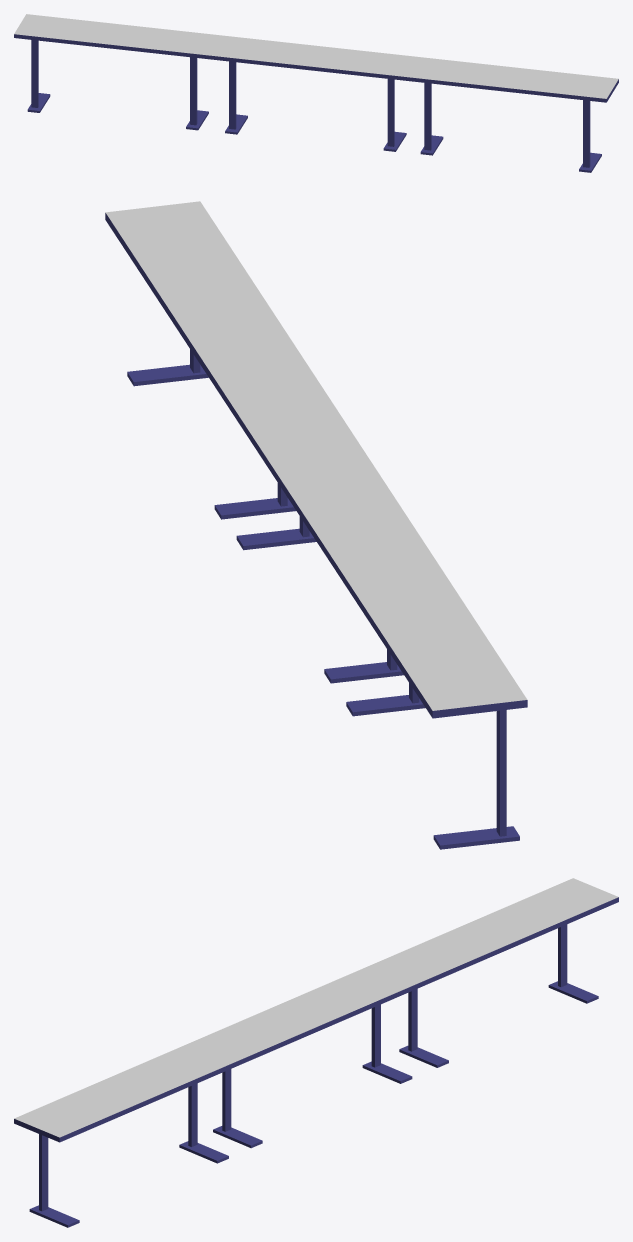
File: A222bancDerriere.fbx
3 views of the same model, one above another, from view 1: azimuth 30°, elevation 25°; view 2: azimuth 150°, elevation 25°; view 3: azimuth 270°, elevation 25° (orthographic). The views are drawn at different scales.
Parts seen in each view (by area): view 1: polySurface8, polySurface10, polySurface12, polySurface16, polySurface14, polySurface18, polySurface20; view 2: polySurface8, polySurface10, polySurface9, polySurface19, polySurface17, polySurface13, polySurface15, polySurface11; view 3: polySurface8, polySurface18, polySurface20, polySurface10, polySurface12, polySurface14, polySurface16, polySurface11, polySurface13, polySurface15, polySurface19, polySurface9 (+1 smaller).
Boxes of the visible parts, x1,y1,x2,y2 form: polySurface8: (14, 14, 618, 102); polySurface10: (31, 40, 38, 107); polySurface12: (190, 57, 197, 125); polySurface16: (229, 61, 236, 129); polySurface14: (387, 79, 394, 146); polySurface18: (583, 100, 590, 167); polySurface20: (424, 83, 431, 150); polySurface8: (105, 201, 527, 718); polySurface10: (496, 710, 506, 836); polySurface9: (433, 826, 519, 849); polySurface19: (214, 498, 295, 519); polySurface17: (127, 364, 208, 386); polySurface13: (236, 528, 316, 550); polySurface15: (324, 662, 403, 683); polySurface11: (346, 695, 425, 716); polySurface8: (14, 878, 618, 1142); polySurface18: (39, 1134, 48, 1211); polySurface20: (188, 1083, 197, 1146); polySurface10: (558, 924, 567, 987); polySurface12: (408, 989, 417, 1051); polySurface14: (222, 1069, 231, 1131); polySurface16: (371, 1004, 380, 1067); polySurface11: (399, 1045, 448, 1067); polySurface13: (213, 1126, 262, 1148); polySurface15: (362, 1061, 412, 1083); polySurface19: (179, 1141, 228, 1163); polySurface9: (548, 981, 598, 1003).
Bounding box in the file's own units: 33.95 × 6.05 × 33.44.
